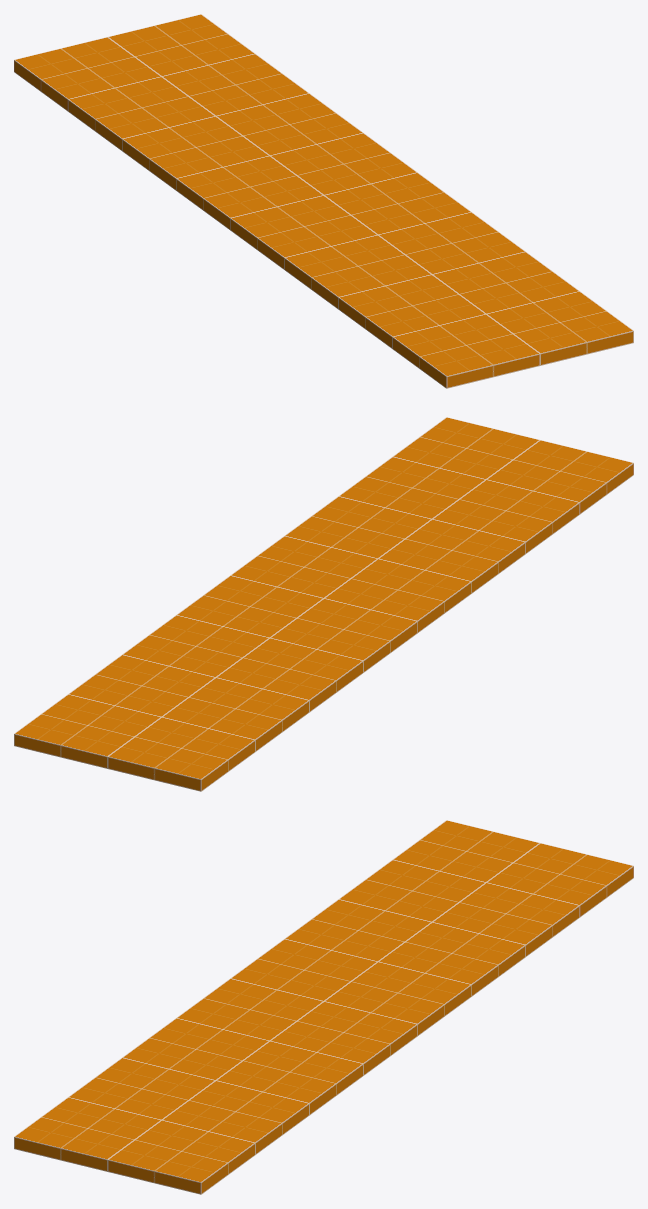
The model's file is Plate8_2x8.obj.
3 renders of one model, top to bottom at view 1: azimuth 30°, elevation 25°; view 2: azimuth 150°, elevation 25°; view 3: azimuth 330°, elevation 25°, orthographic.
Parts seen in each view (by area): view 1: Plate8_2x8_Cube.379; view 2: Plate8_2x8_Cube.379; view 3: Plate8_2x8_Cube.379.
Part boxes in pixels (x1,y1,x2,y2): Plate8_2x8_Cube.379: [14, 14, 633, 388]; Plate8_2x8_Cube.379: [14, 417, 633, 791]; Plate8_2x8_Cube.379: [14, 820, 633, 1194].
Bounding box in the file's own units: 2 × 0.125 × 8.
Materials: 1 (1 with a texture image).
